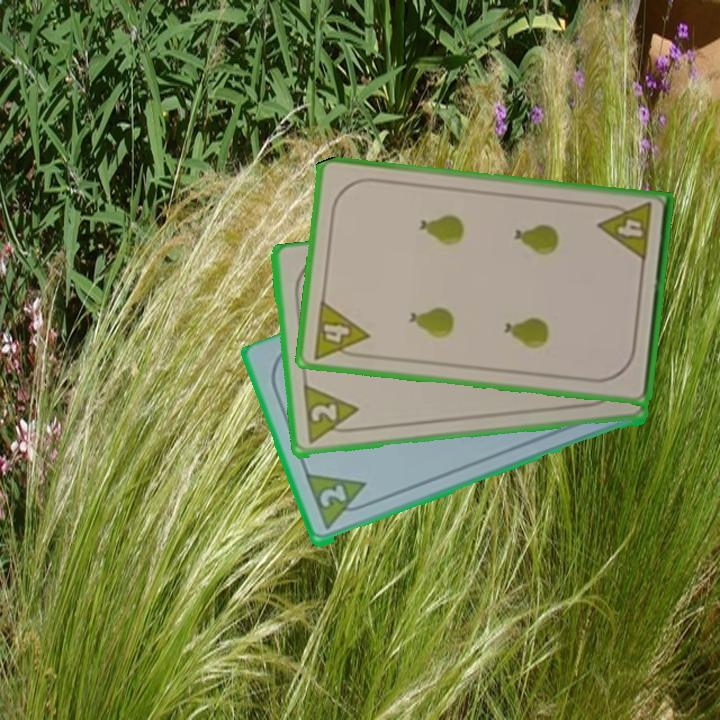2p: (302, 471, 375, 534), (299, 383, 363, 448)
4p: (309, 297, 372, 362), (595, 199, 655, 265)
